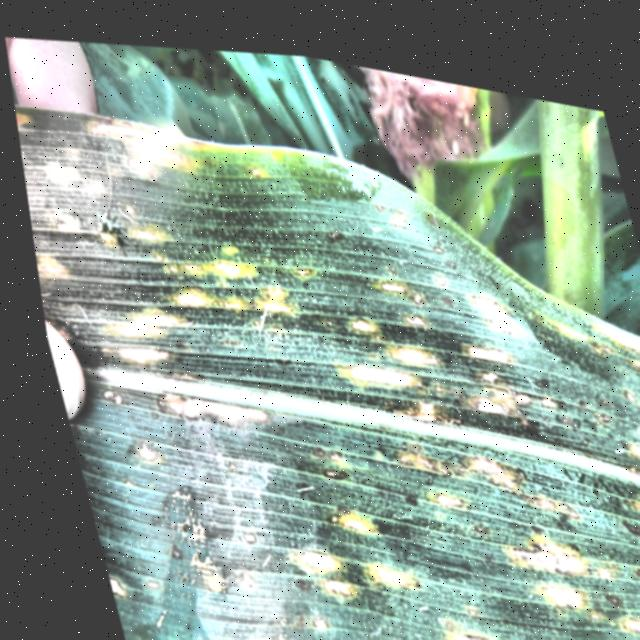gray_spot: (46, 50, 640, 640)
